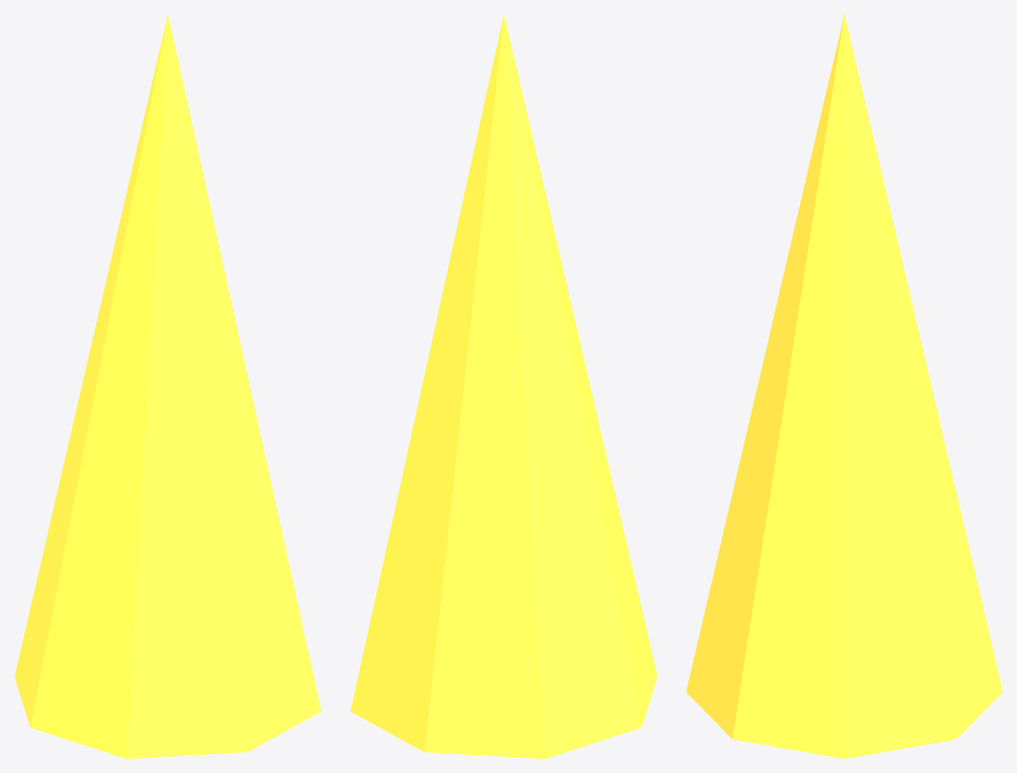
The model's file is SM_Keeper_Seraphs_Ember1.fbx.
The picture shows the model from 3 angles, left to right: view 1: azimuth 30°, elevation 25°; view 2: azimuth 150°, elevation 25°; view 3: azimuth 270°, elevation 25°; orthographic projection.
Visible parts, largest first — view 1: SM_Keeper_Seraphs_Ember1; view 2: SM_Keeper_Seraphs_Ember1; view 3: SM_Keeper_Seraphs_Ember1.
Boxes of the visible parts, left/top/right/bottom form: SM_Keeper_Seraphs_Ember1: left=14, top=15, right=321, bottom=758; SM_Keeper_Seraphs_Ember1: left=350, top=15, right=657, bottom=758; SM_Keeper_Seraphs_Ember1: left=686, top=14, right=1002, bottom=758.
Bounding box in the file's own units: 0.36 × 0.85 × 0.36.
